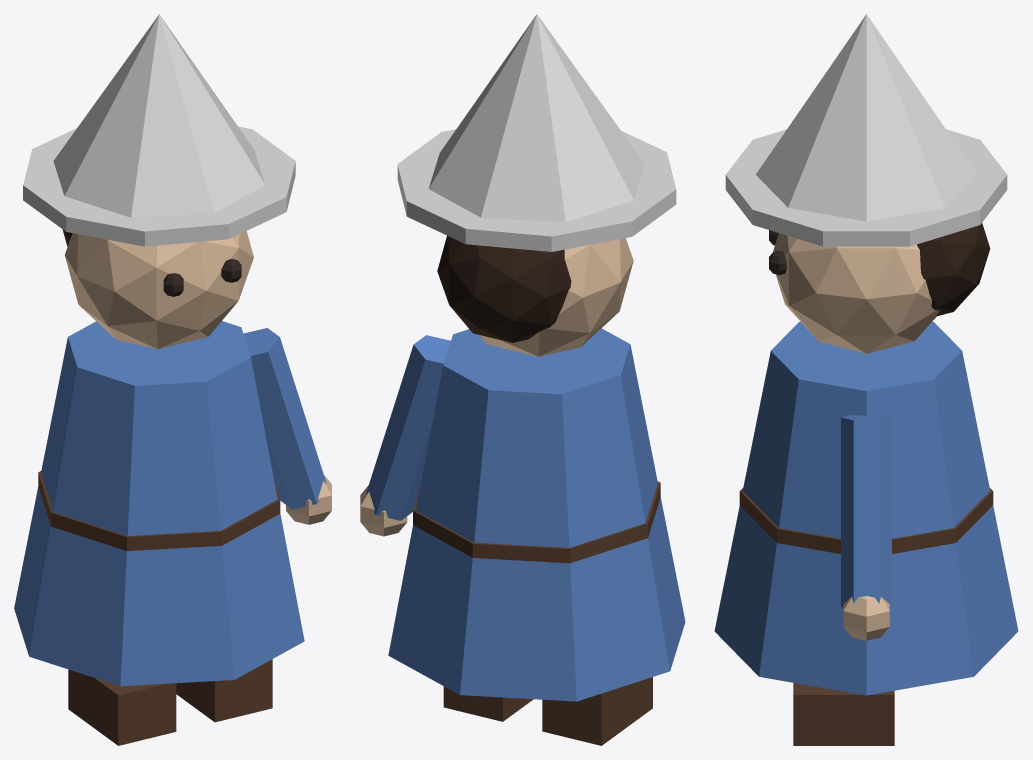
File: villager_2_p.glb
3 renders of one model, left to right at view 1: azimuth 30°, elevation 25°; view 2: azimuth 150°, elevation 25°; view 3: azimuth 270°, elevation 25°, orthographic. The views are drawn at different scales.
Visible parts, largest first — view 1: villager_2_p; view 2: villager_2_p; view 3: villager_2_p.
Part boxes in pixels (box(x1,y1,x2,y2)): villager_2_p: box(14, 14, 331, 745); villager_2_p: box(360, 14, 685, 745); villager_2_p: box(714, 14, 1018, 745).
Bounding box in the file's own units: 0.5334 × 1.16 × 0.459.
